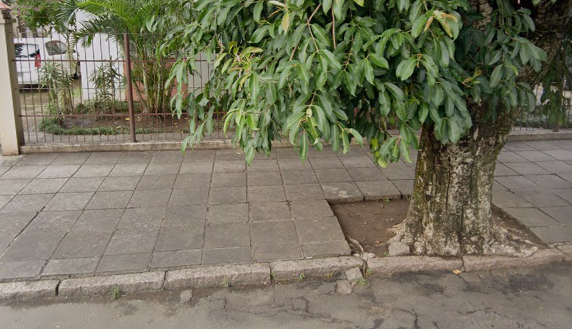vag30: (2, 198, 572, 329)
